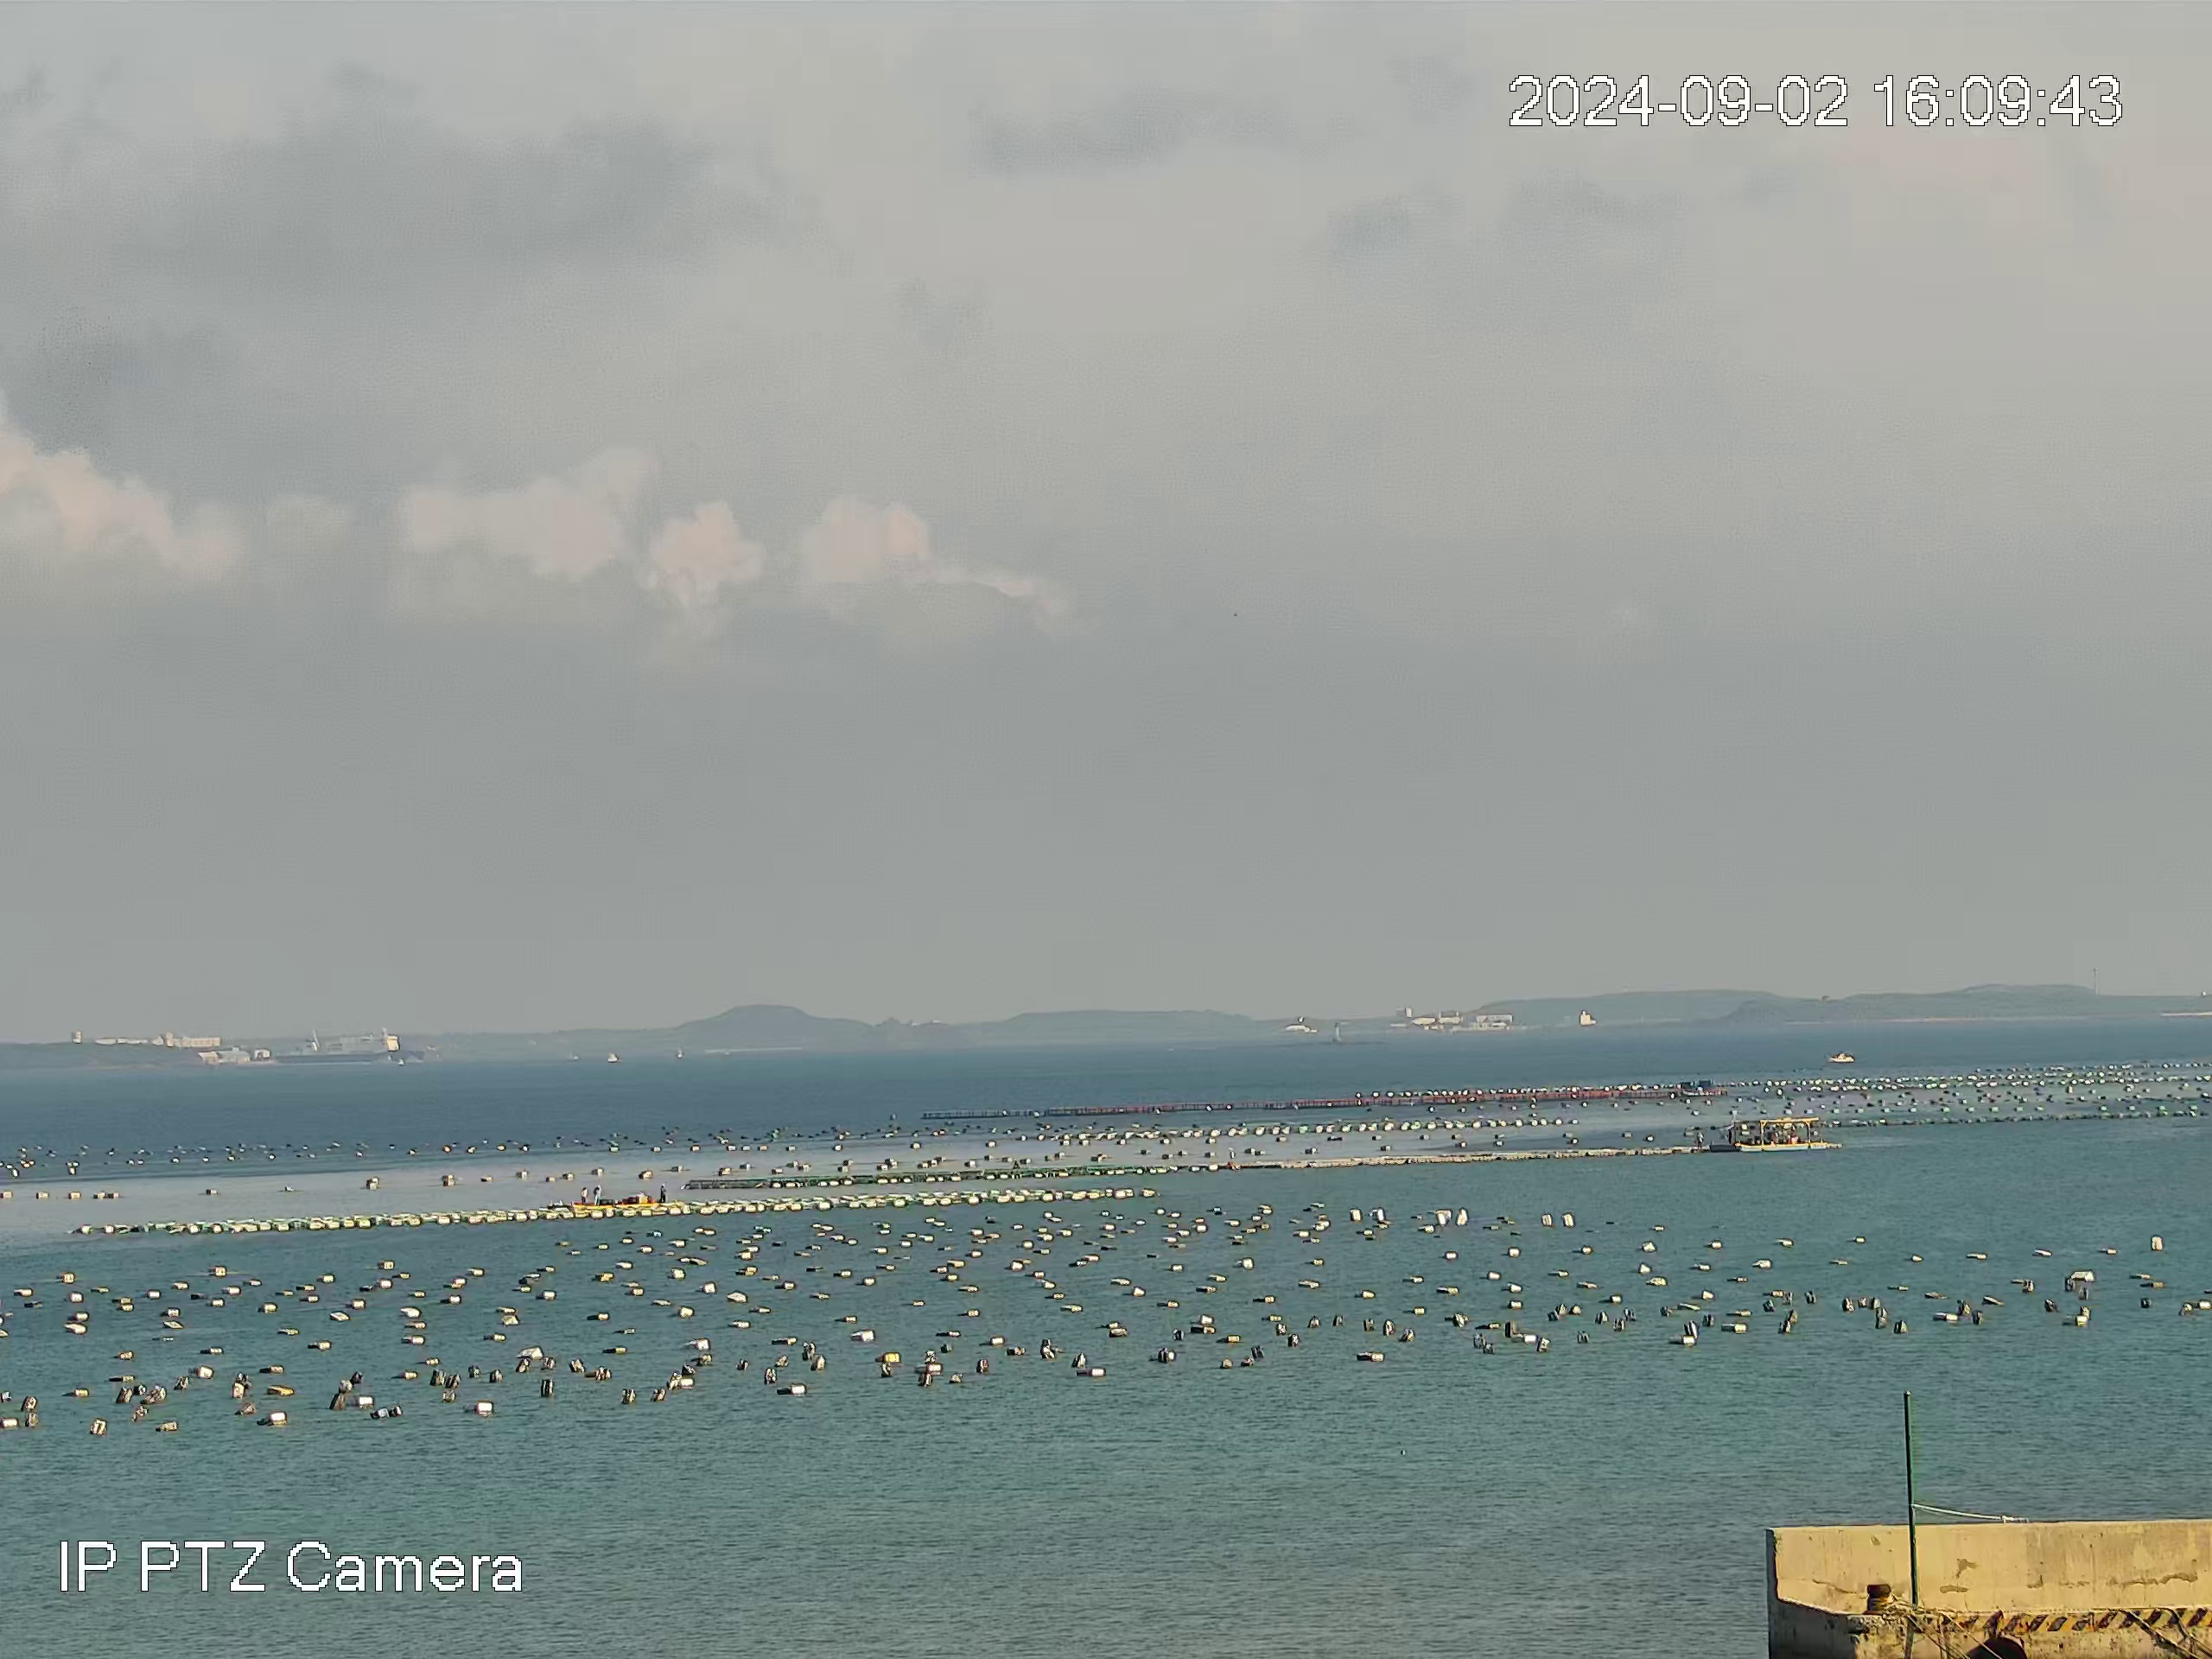boat: (272, 1033, 427, 1066), (1733, 1117, 1831, 1152), (570, 1183, 685, 1209), (1824, 1049, 1855, 1065)
